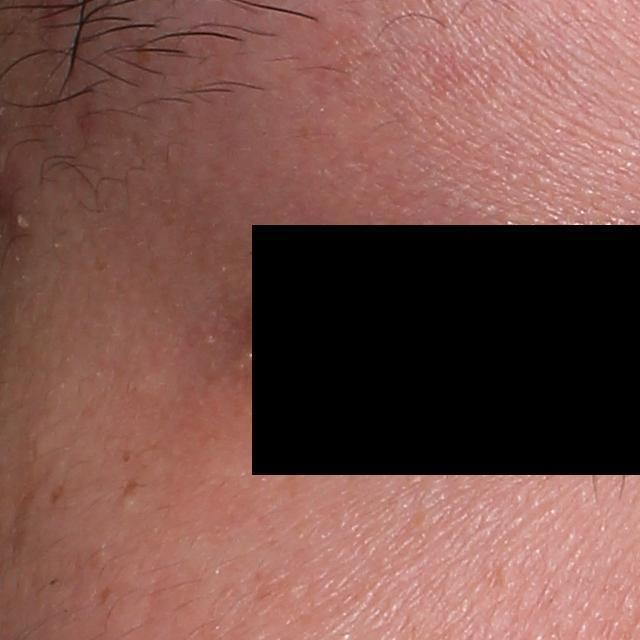melasma: (50, 481, 67, 504)
